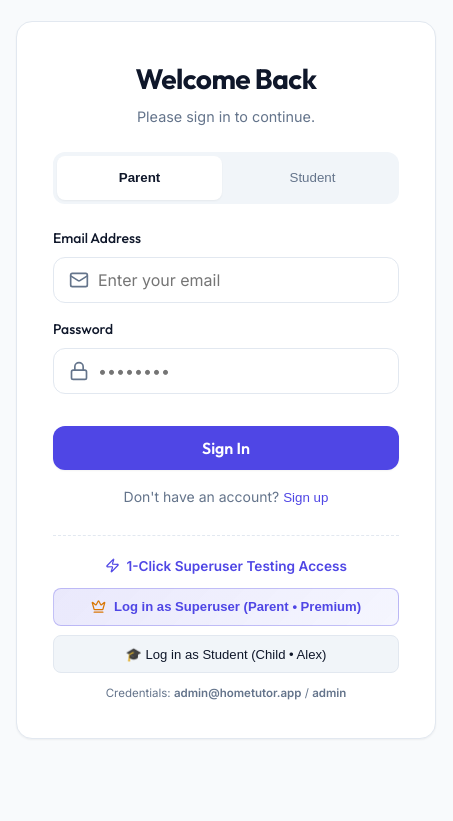
Test case: Login page – form submission (sign in) › shows error message when login fails
The image size is (453, 821).
Type "bad@example.com" into the field with placeholder "Enter your email" at coordinates (226, 280), box [53,257,399,303]
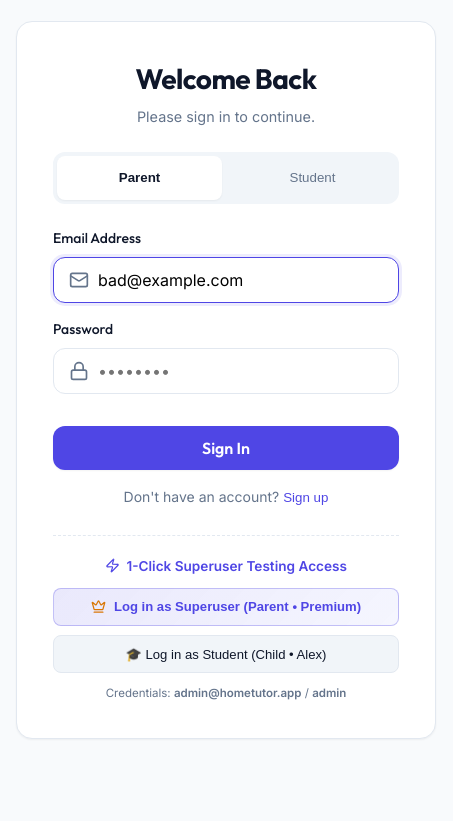
Type "wrongpass" into the password field with placeholder "••••••••" at coordinates (226, 371), box [53,348,399,394]
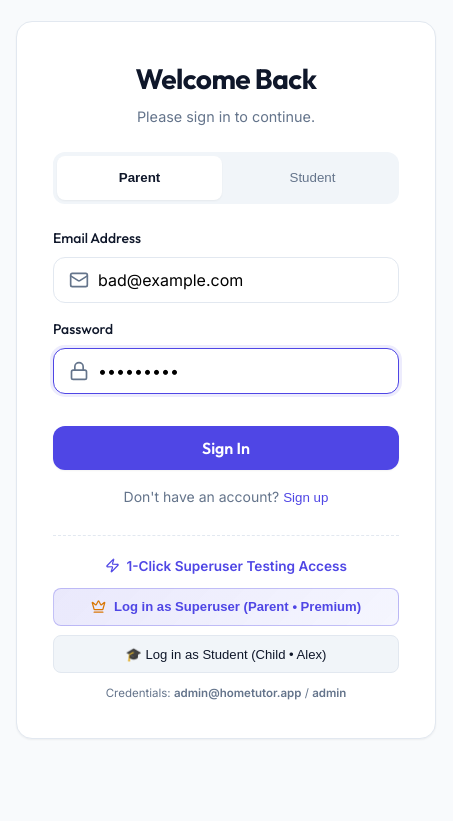
Submit the form "Email Address Password Sign In", box [53,228,399,486]
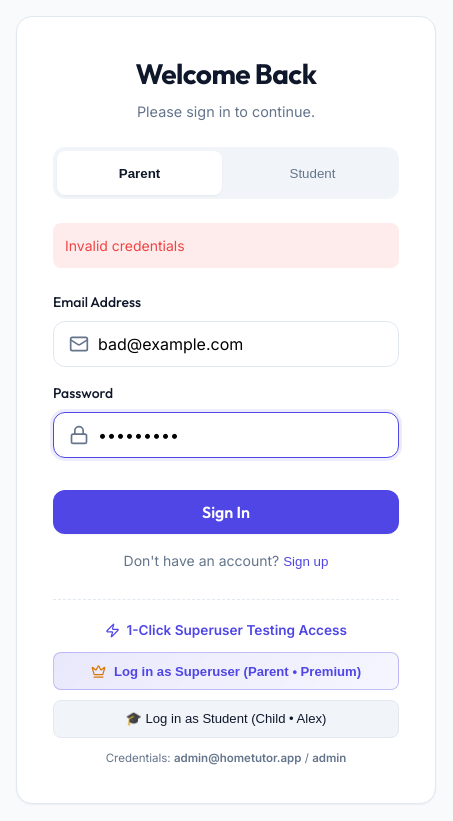
Check: the text "Invalid credentials" is shown, box [53,223,399,268]
